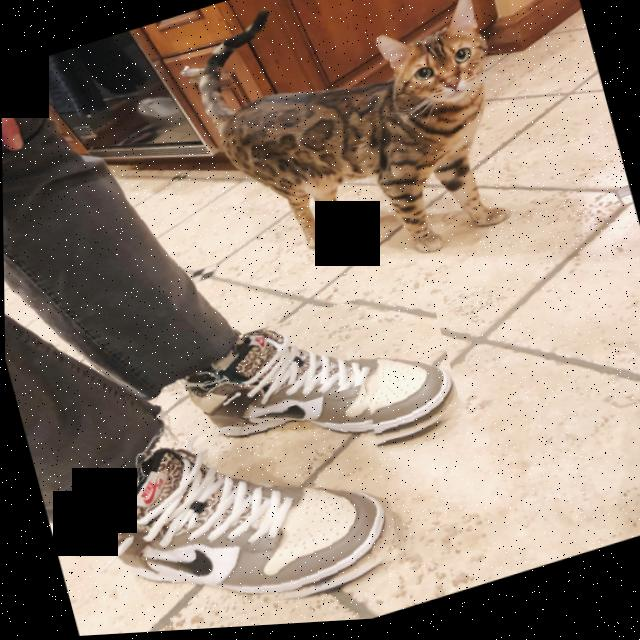shoe: (65, 385, 412, 637), (168, 280, 466, 511)
